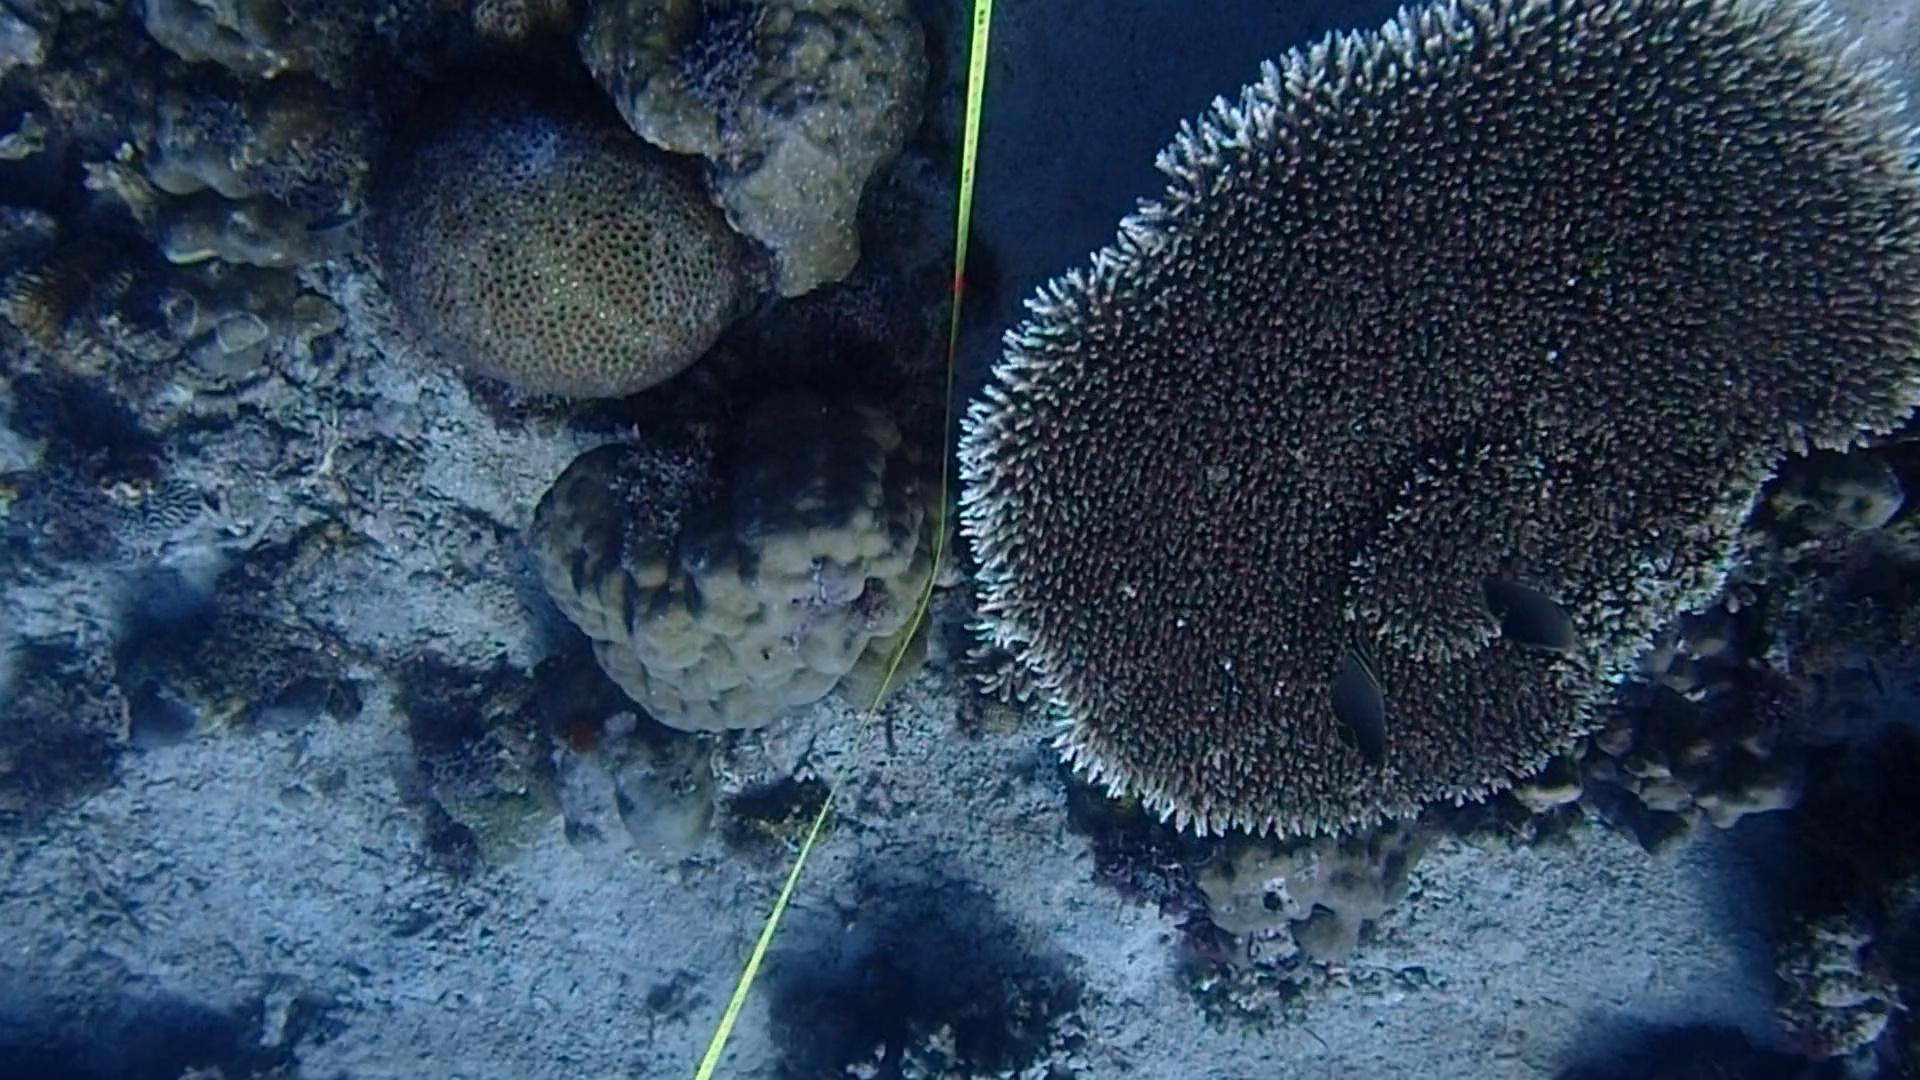Dark Blue Dory: (1473, 562, 1590, 667), (1315, 636, 1402, 771)
Light Fish: (295, 185, 377, 249)
